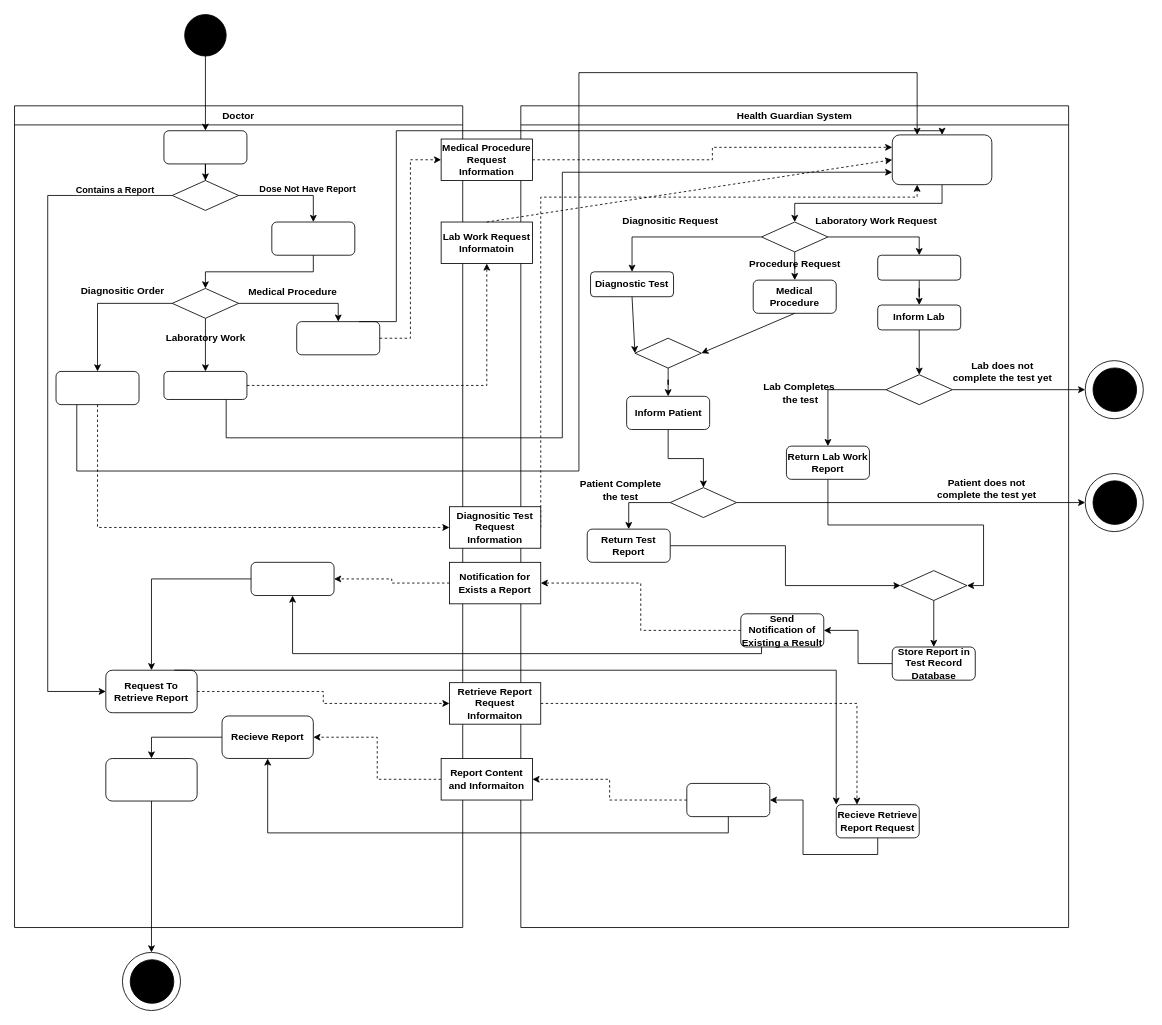
Image size: 1162x1025. Some labels were removed from this diagram. The box of each missing label's shape, as (x1, y1, x2, y2) in pixels:
Lab Work: (877, 254, 961, 280)
Order tests: (271, 221, 355, 255)
Receive Request: (891, 134, 992, 185)
Receive the Notification: (250, 561, 334, 596)
Review Report: (105, 758, 197, 801)
Select Diagnositic test: (55, 371, 139, 405)
Select Lab Work: (163, 371, 247, 399)
Select medical procedure: (296, 321, 380, 355)
Send Reports: (686, 783, 770, 817)
View Reports: (163, 130, 247, 164)
